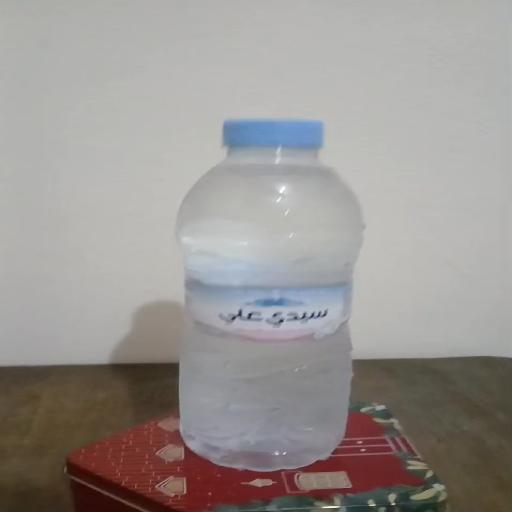bouteille conformite: (170, 100, 368, 474)
